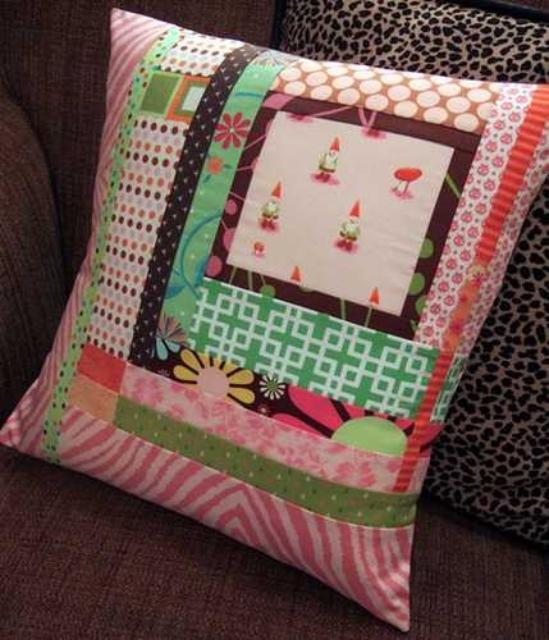pillow: (0, 4, 548, 632)
